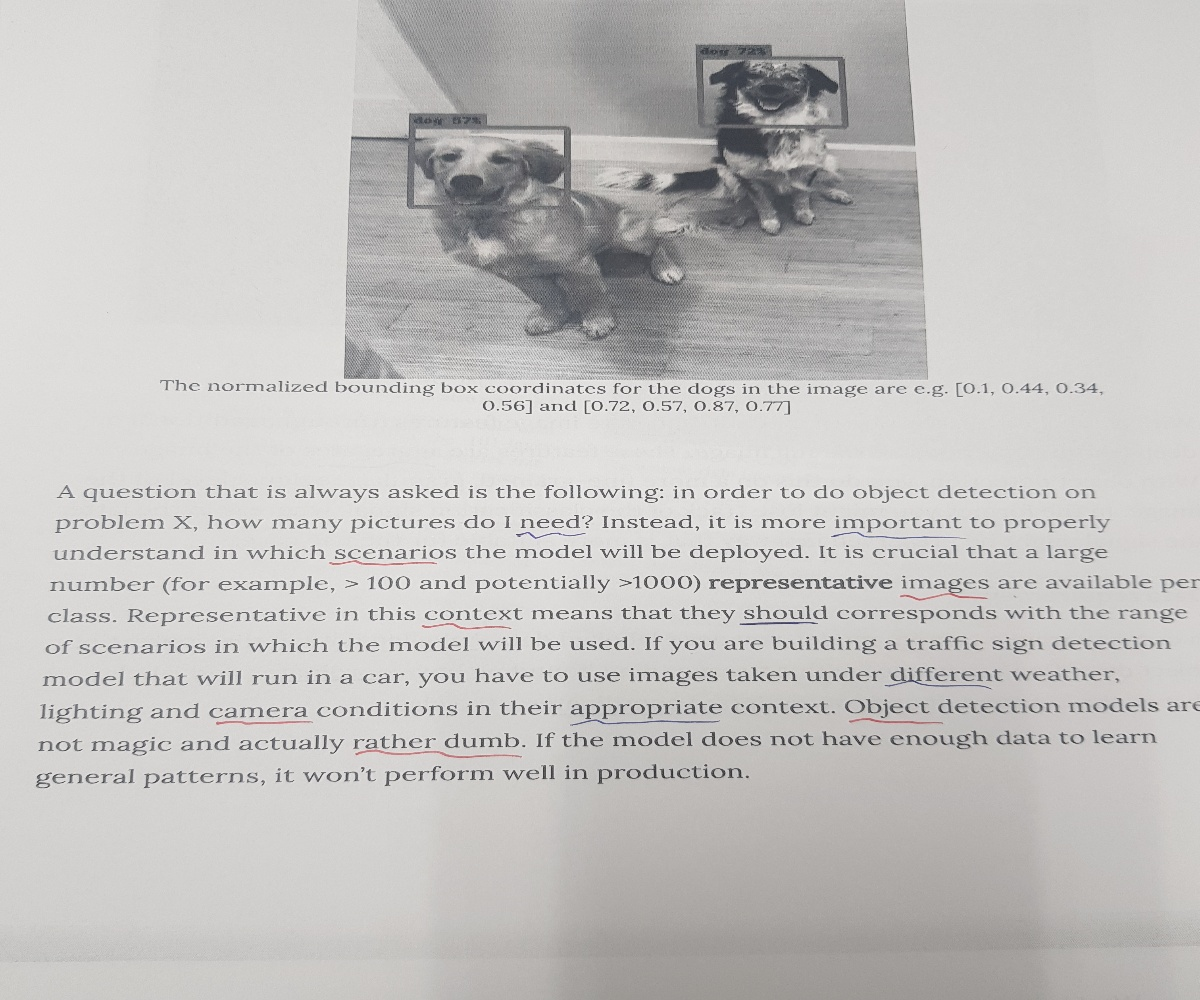underline: (353, 748, 529, 761), (827, 530, 971, 544), (569, 716, 723, 729), (845, 712, 945, 730), (324, 556, 439, 571), (879, 678, 992, 693), (207, 717, 317, 729), (420, 620, 513, 633), (897, 590, 989, 603), (512, 528, 585, 541), (738, 618, 819, 629)
